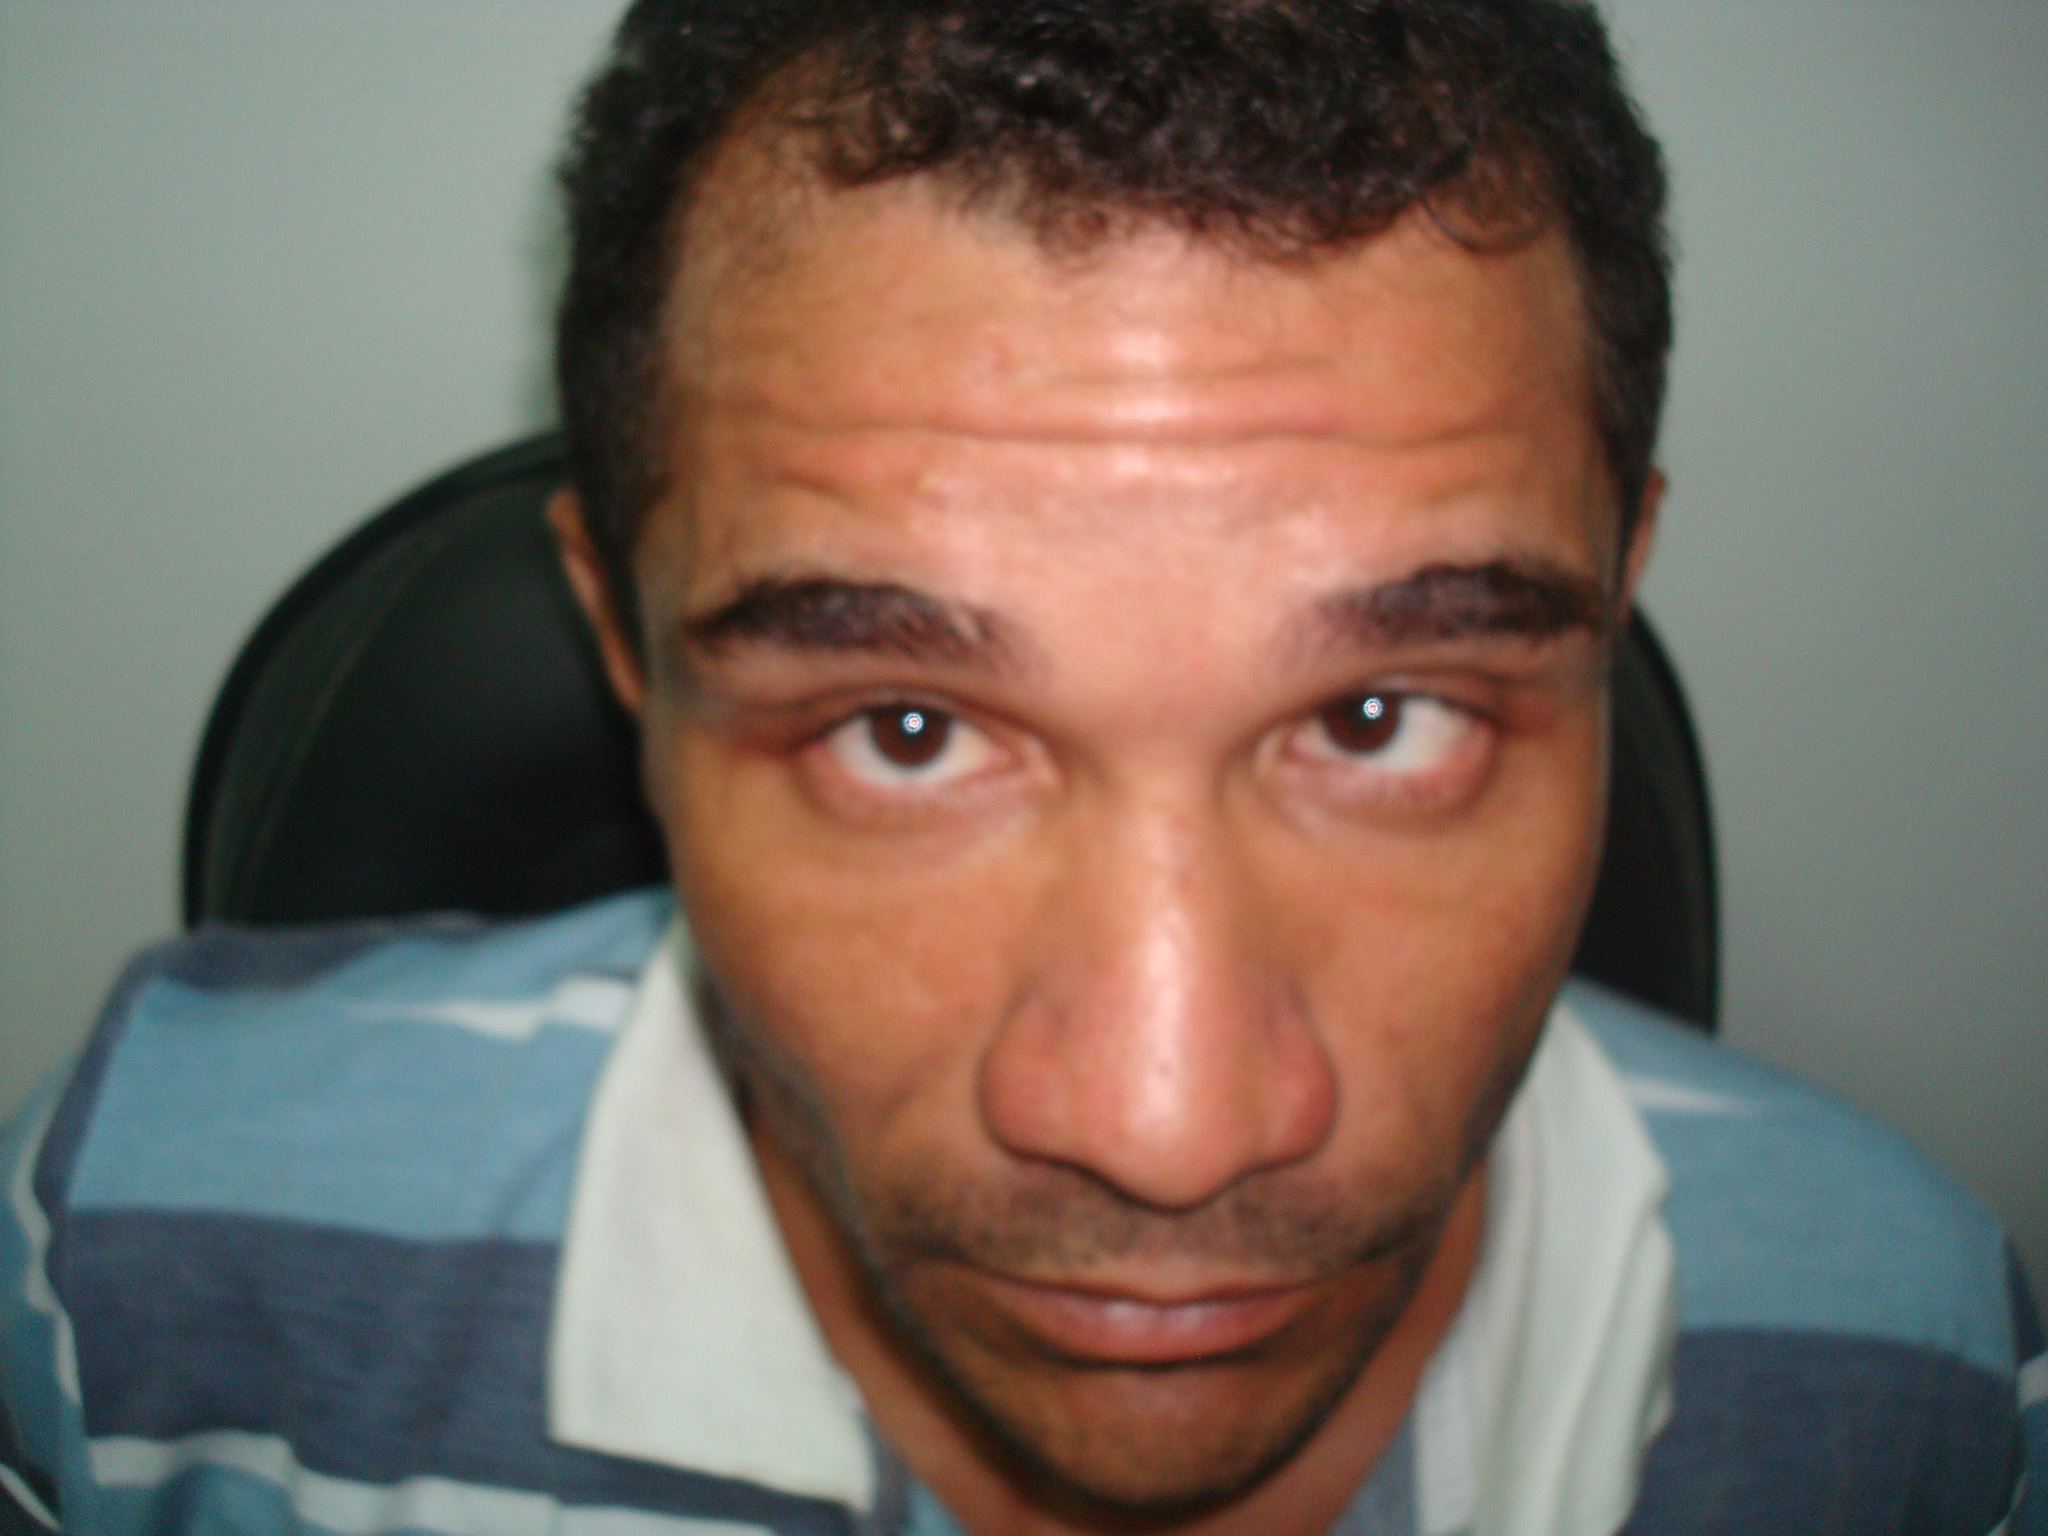flash: (901, 713, 924, 734), (1364, 699, 1382, 718)
limbo: (872, 689, 951, 762), (1324, 681, 1397, 747)
